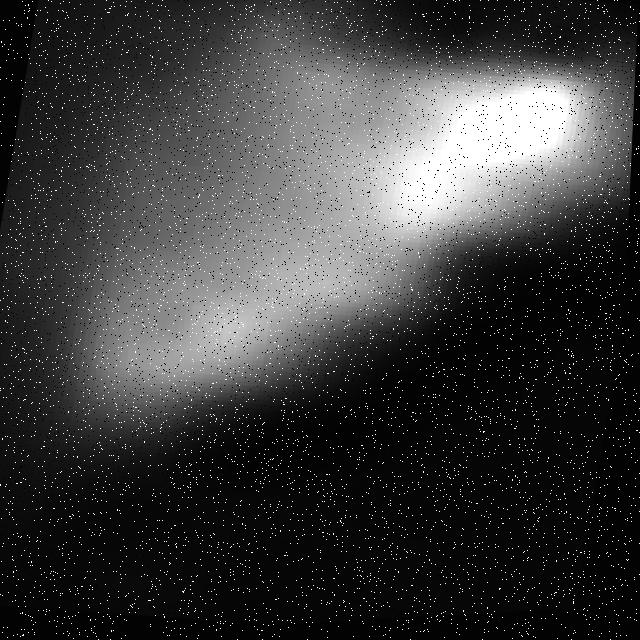person: (1, 1, 640, 533)
